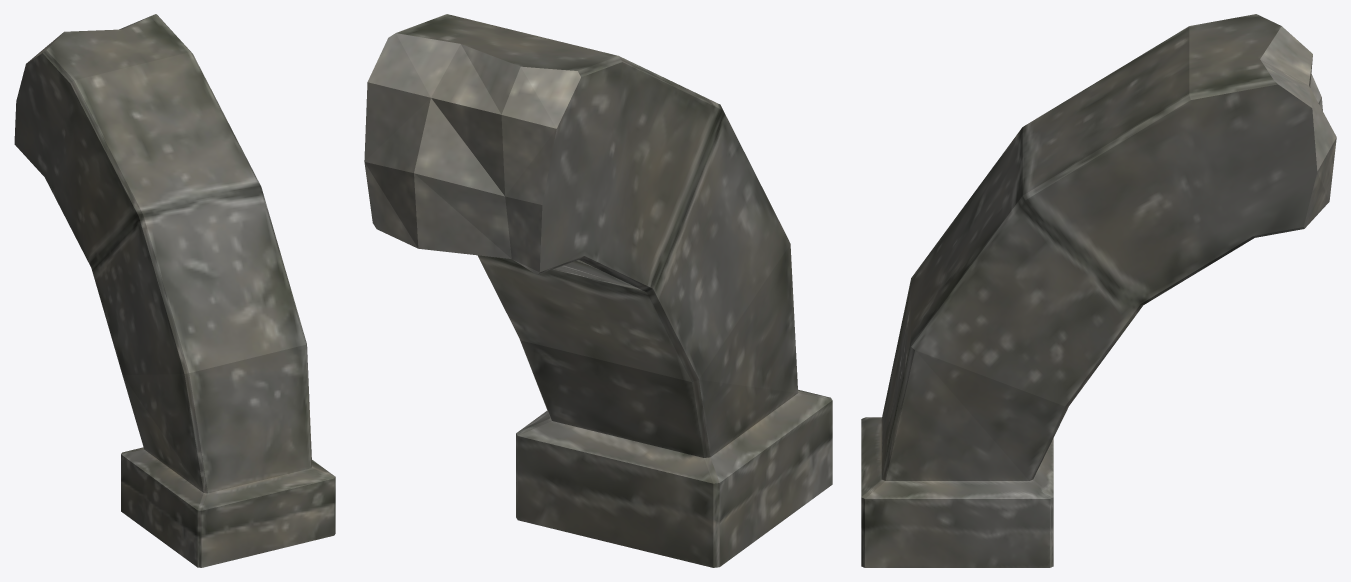
File: Arc_half_002.obj
The picture shows the model from 3 angles, left to right: view 1: azimuth 30°, elevation 25°; view 2: azimuth 150°, elevation 25°; view 3: azimuth 270°, elevation 25°; orthographic projection. The views are drawn at different scales.
Parts seen in each view (by area): view 1: Arc_half_002; view 2: Arc_half_002; view 3: Arc_half_002.
Part boxes in pixels (x1=…): Arc_half_002: x1=14, y1=14, x2=335, y2=567; Arc_half_002: x1=364, y1=14, x2=832, y2=567; Arc_half_002: x1=861, y1=14, x2=1336, y2=567.
Bounding box in the file's own units: 2.25 × 6.24 × 5.56.
